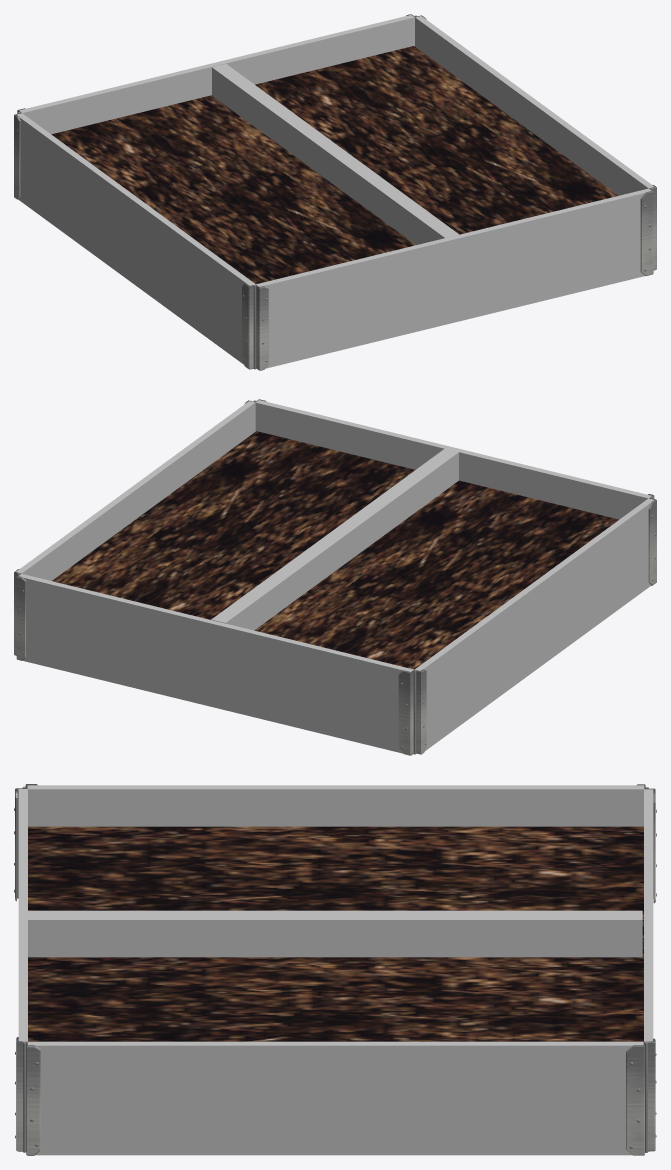
Rendered from pot carre terre.fbx.
3 renders of one model, top to bottom at view 1: azimuth 30°, elevation 25°; view 2: azimuth 150°, elevation 25°; view 3: azimuth 270°, elevation 25°, orthographic. The views are drawn at different scales.
Parts seen in each view (by area): view 1: Planche, terre, coin; view 2: Planche, terre, coin; view 3: Planche, terre, coin.
Boxes of the visible parts, <box> form: Planche: <box>16,15,654,368</box>; terre: <box>51,46,618,284</box>; coin: <box>14,14,656,370</box>; Planche: <box>16,400,654,755</box>; terre: <box>52,431,618,669</box>; coin: <box>14,399,656,755</box>; Planche: <box>18,785,653,1155</box>; terre: <box>28,826,643,1041</box>; coin: <box>14,784,656,1155</box>.
Bounding box in the file's own units: 202 × 39.43 × 209.
